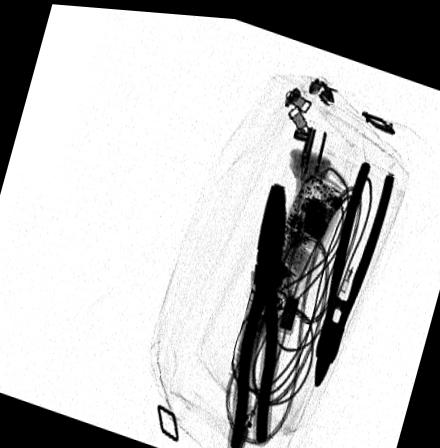Pliers: (309, 152, 398, 385), (226, 174, 287, 448)
